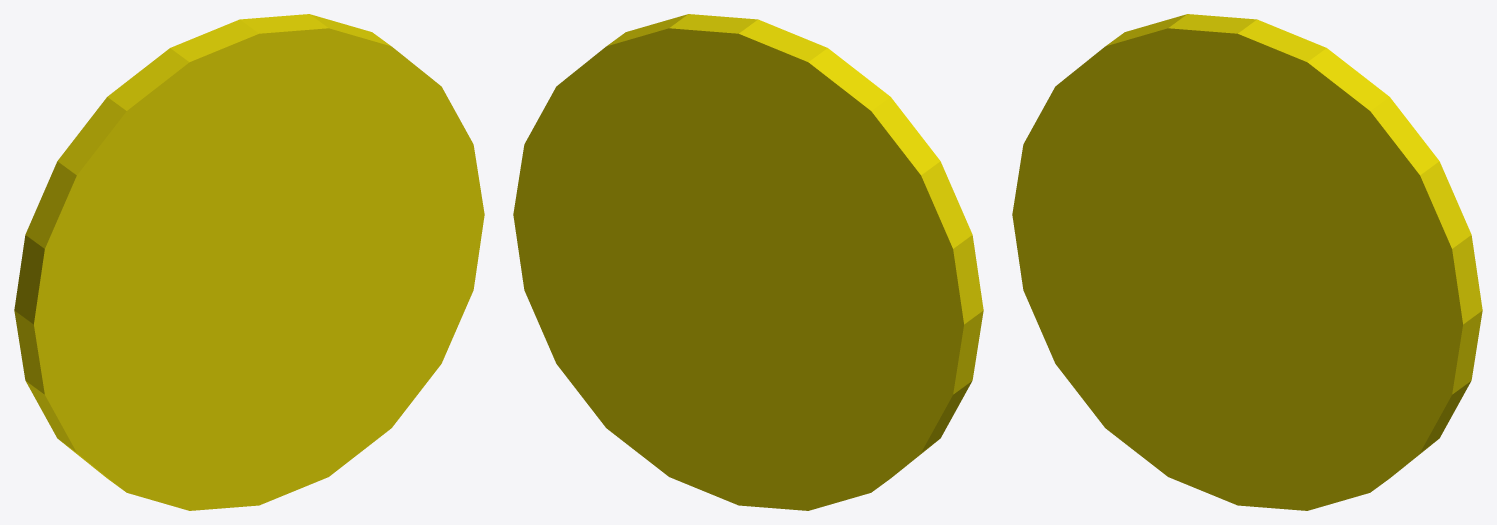
File: bling.fbx
3 views of the same model, side by side, from view 1: azimuth 30°, elevation 25°; view 2: azimuth 150°, elevation 25°; view 3: azimuth 330°, elevation 25° (orthographic).
Visible parts, largest first — view 1: Cylinder; view 2: Cylinder; view 3: Cylinder.
Boxes of the visible parts, x1,y1,x2,y2 form: Cylinder: [14, 14, 484, 510]; Cylinder: [513, 14, 983, 510]; Cylinder: [1012, 14, 1482, 510].
Bounding box in the file's own units: 15.01 × 200 × 200.
